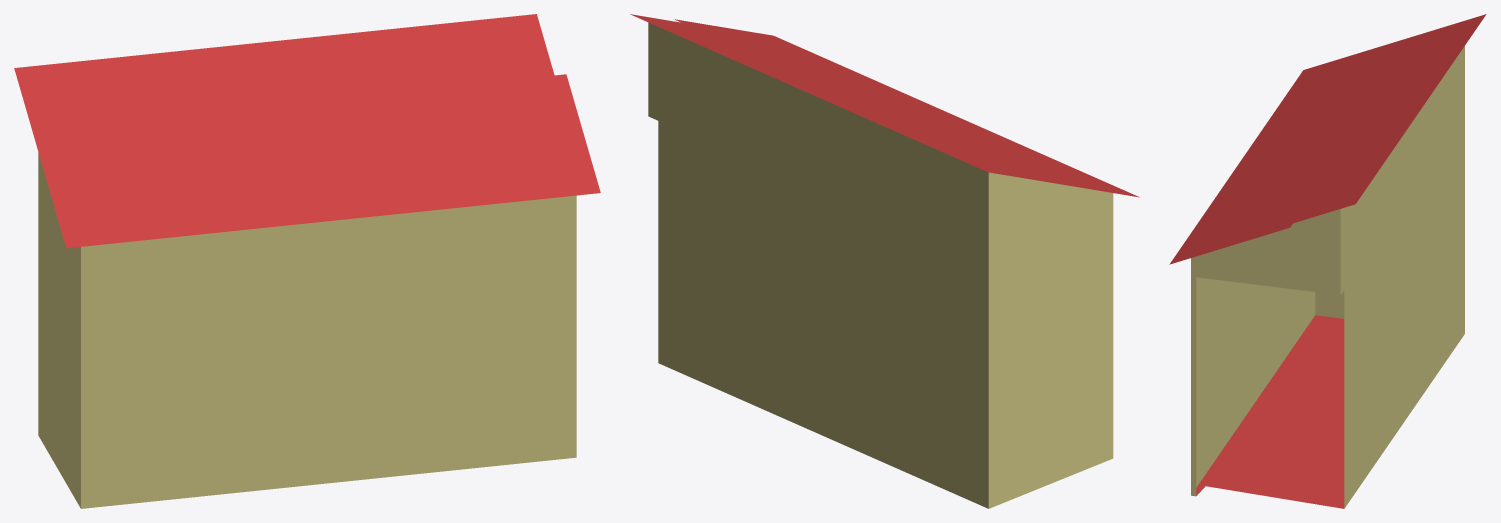
The picture shows the model from 3 angles, left to right: view 1: azimuth 30°, elevation 25°; view 2: azimuth 150°, elevation 25°; view 3: azimuth 270°, elevation 25°; orthographic projection. The views are drawn at different scales.
Size of the model in its own units: 14.44 by 9.1 by 9.95.
